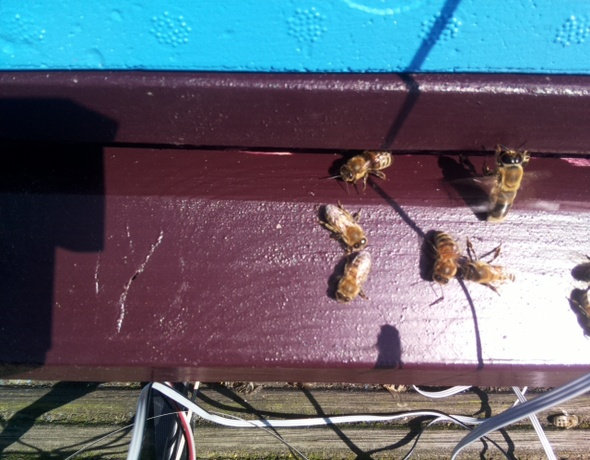no_pollen: (480, 148, 527, 227), (448, 247, 514, 297), (335, 143, 396, 192), (317, 199, 370, 253), (331, 247, 376, 306), (424, 226, 462, 287), (565, 285, 590, 339)
